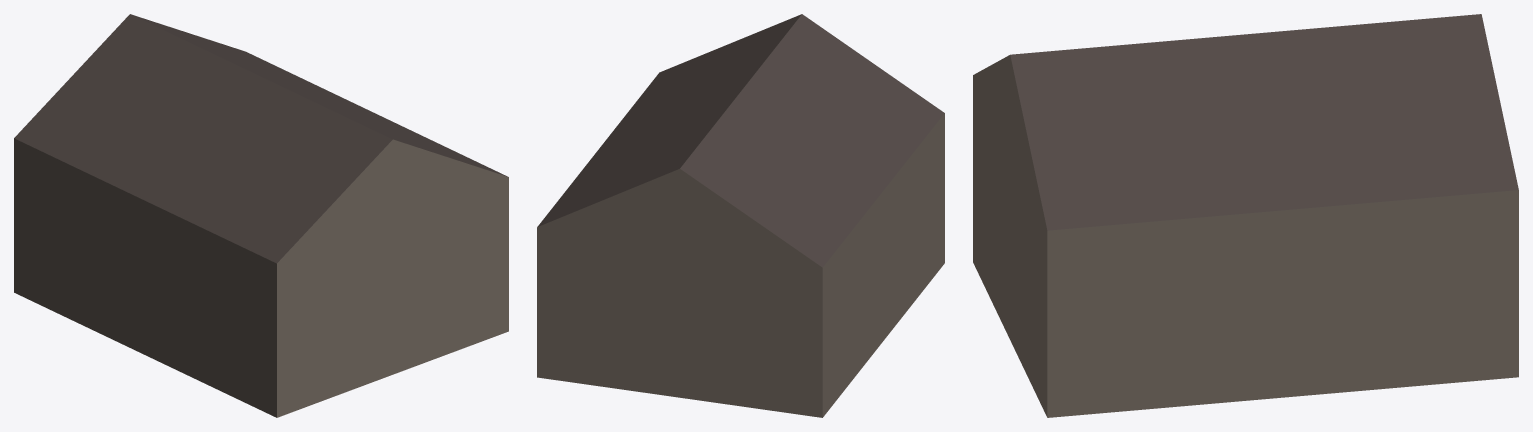
3 renders of one model, left to right at view 1: azimuth 30°, elevation 25°; view 2: azimuth 150°, elevation 25°; view 3: azimuth 270°, elevation 25°, orthographic. The views are drawn at different scales.
Visible parts, largest first — view 1: HP-w389701941; view 2: HP-w389701941; view 3: HP-w389701941.
Part boxes in pixels (x1,y1,x2,y2): HP-w389701941: [14, 14, 508, 417]; HP-w389701941: [537, 14, 944, 417]; HP-w389701941: [973, 14, 1518, 417].
Size of the model in its own units: 20.22 by 13.72 by 23.77.
